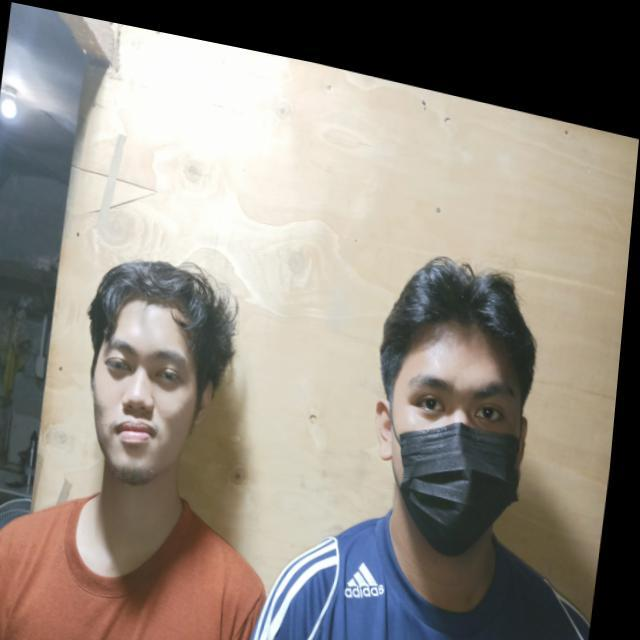Nonhelmet: (373, 254, 539, 557), (84, 257, 238, 486)
